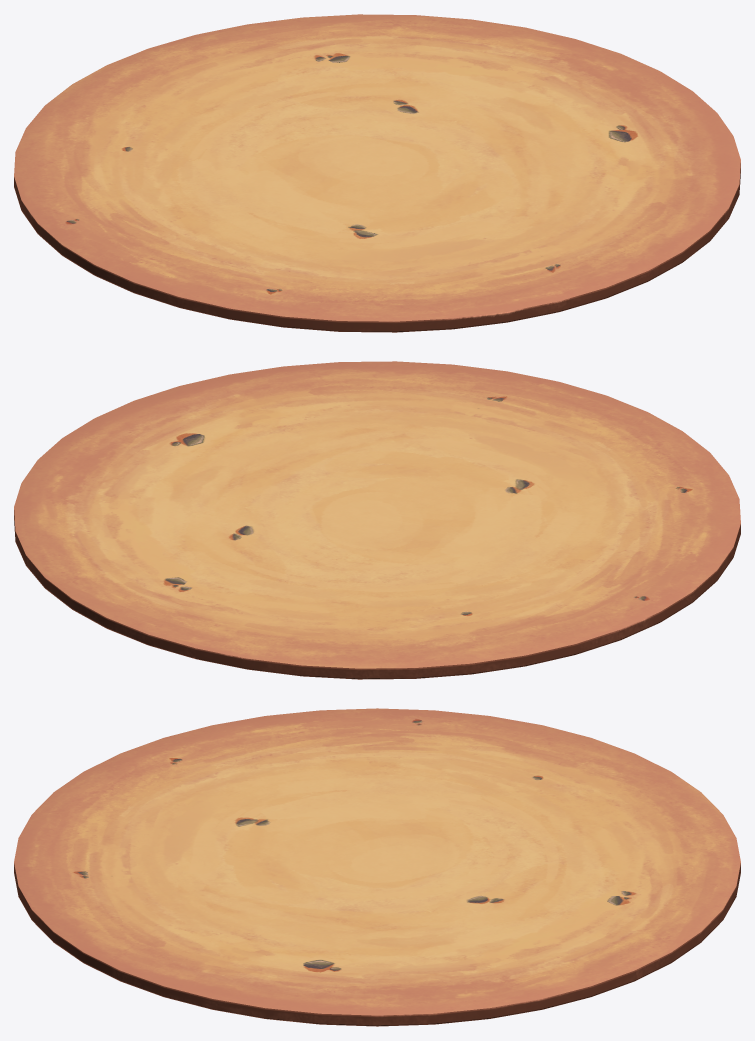
File: ground_v004.fbx
3 renders of one model, top to bottom at view 1: azimuth 30°, elevation 25°; view 2: azimuth 150°, elevation 25°; view 3: azimuth 270°, elevation 25°, orthographic.
Parts seen in each view (by area): view 1: pCylinder1; view 2: pCylinder1; view 3: pCylinder1.
Part boxes in pixels (x1,y1,x2,y2): pCylinder1: (14, 14, 740, 332); pCylinder1: (14, 361, 740, 679); pCylinder1: (14, 708, 740, 1026).
Bounding box in the file's own units: 93.28 × 1.92 × 93.28.
